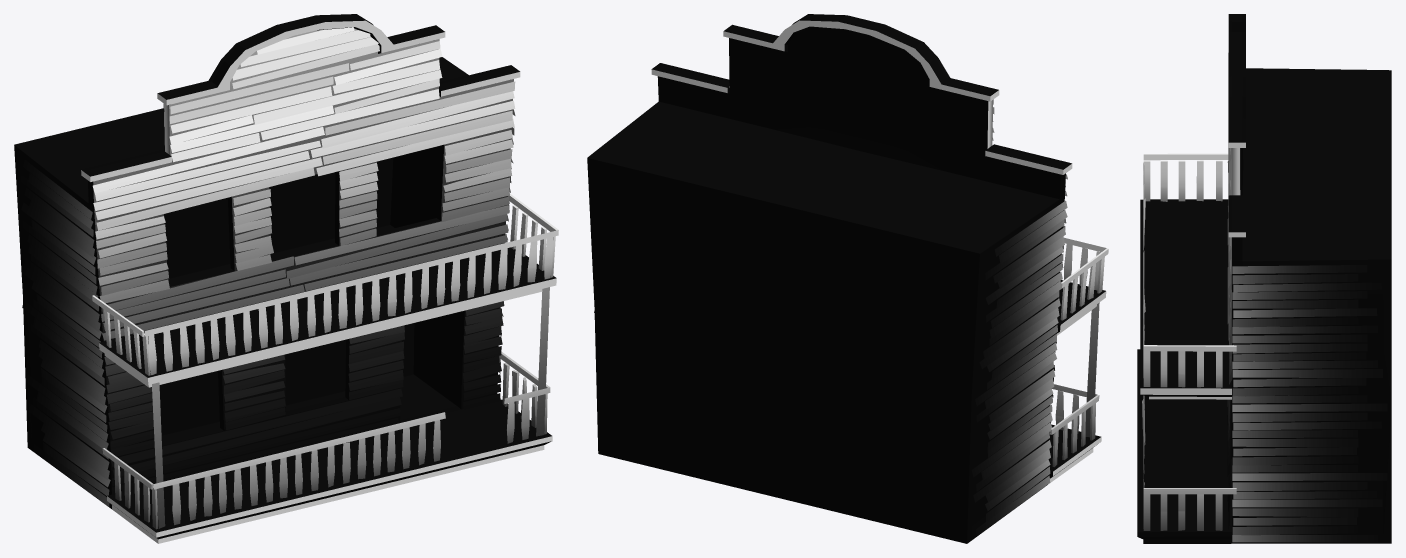
File: Building3.glb
3 renders of one model, left to right at view 1: azimuth 30°, elevation 25°; view 2: azimuth 150°, elevation 25°; view 3: azimuth 270°, elevation 25°, orthographic. The views are drawn at different scales.
Parts seen in each view (by area): view 1: Building3; view 2: Building3; view 3: Building3.
Boxes of the visible parts, x1,y1,x2,y2 form: Building3: [14, 14, 558, 543]; Building3: [587, 14, 1108, 543]; Building3: [1137, 14, 1391, 543].
Size of what is drawn, in the model's own units: 13.09 by 12.71 by 7.09.
1 material, 1 textured.
